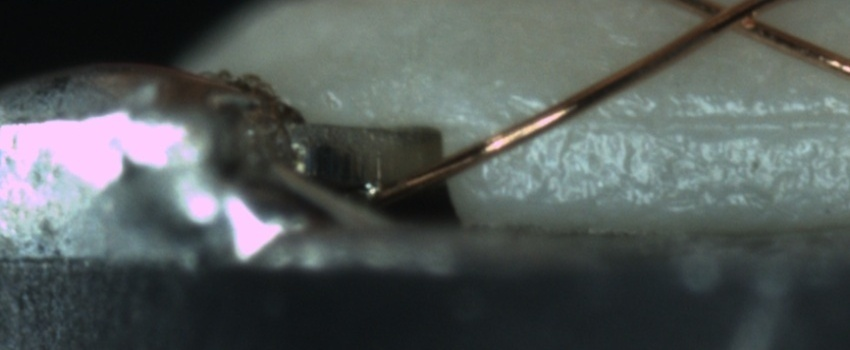CL: (691, 0, 779, 39)
DL: (545, 89, 849, 151)
